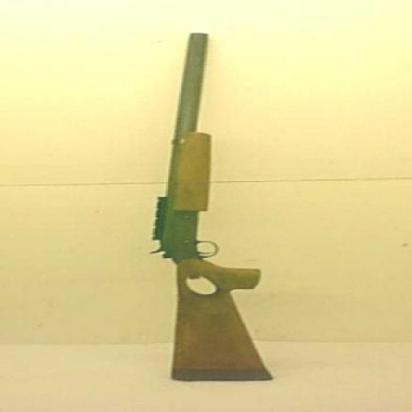Gun: (143, 25, 274, 391)
